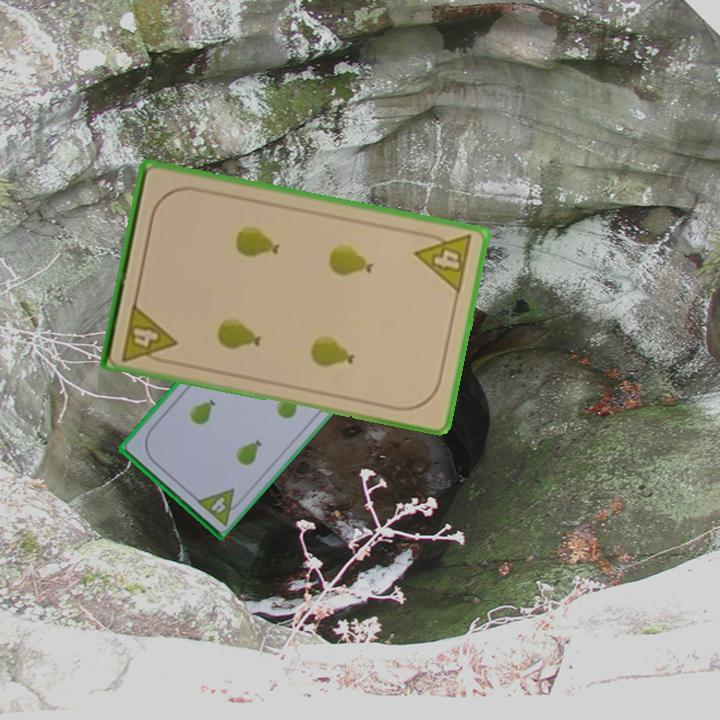4p: (411, 227, 476, 296), (118, 299, 179, 367), (192, 485, 246, 528)
